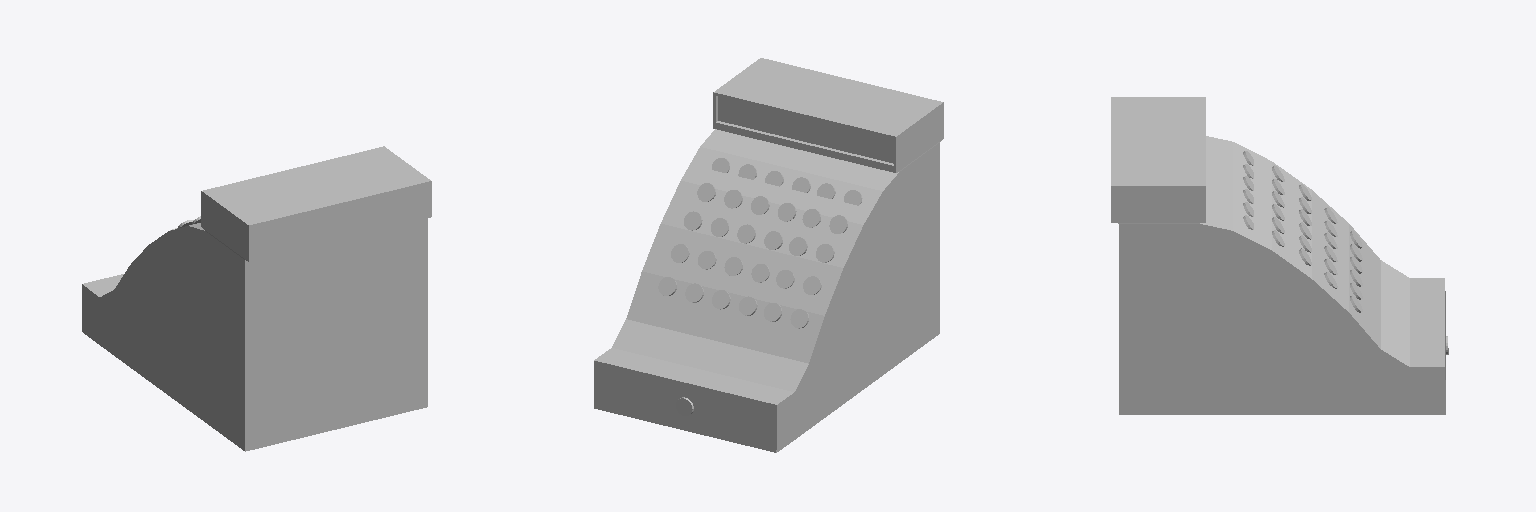
File: kasse.obj
The picture shows the model from 3 angles: view 1: azimuth 30°, elevation 25°; view 2: azimuth 150°, elevation 25°; view 3: azimuth 270°, elevation 25°; orthographic projection.
Parts seen in each view (by area): view 1: Rectangle001; view 2: Rectangle001; view 3: Rectangle001.
Boxes of the visible parts, box(x1,y1,x2,y2) form: Rectangle001: box(82, 146, 431, 451); Rectangle001: box(594, 58, 943, 452); Rectangle001: box(1111, 97, 1445, 414).
Bounding box in the file's own units: 100 × 120 × 160.